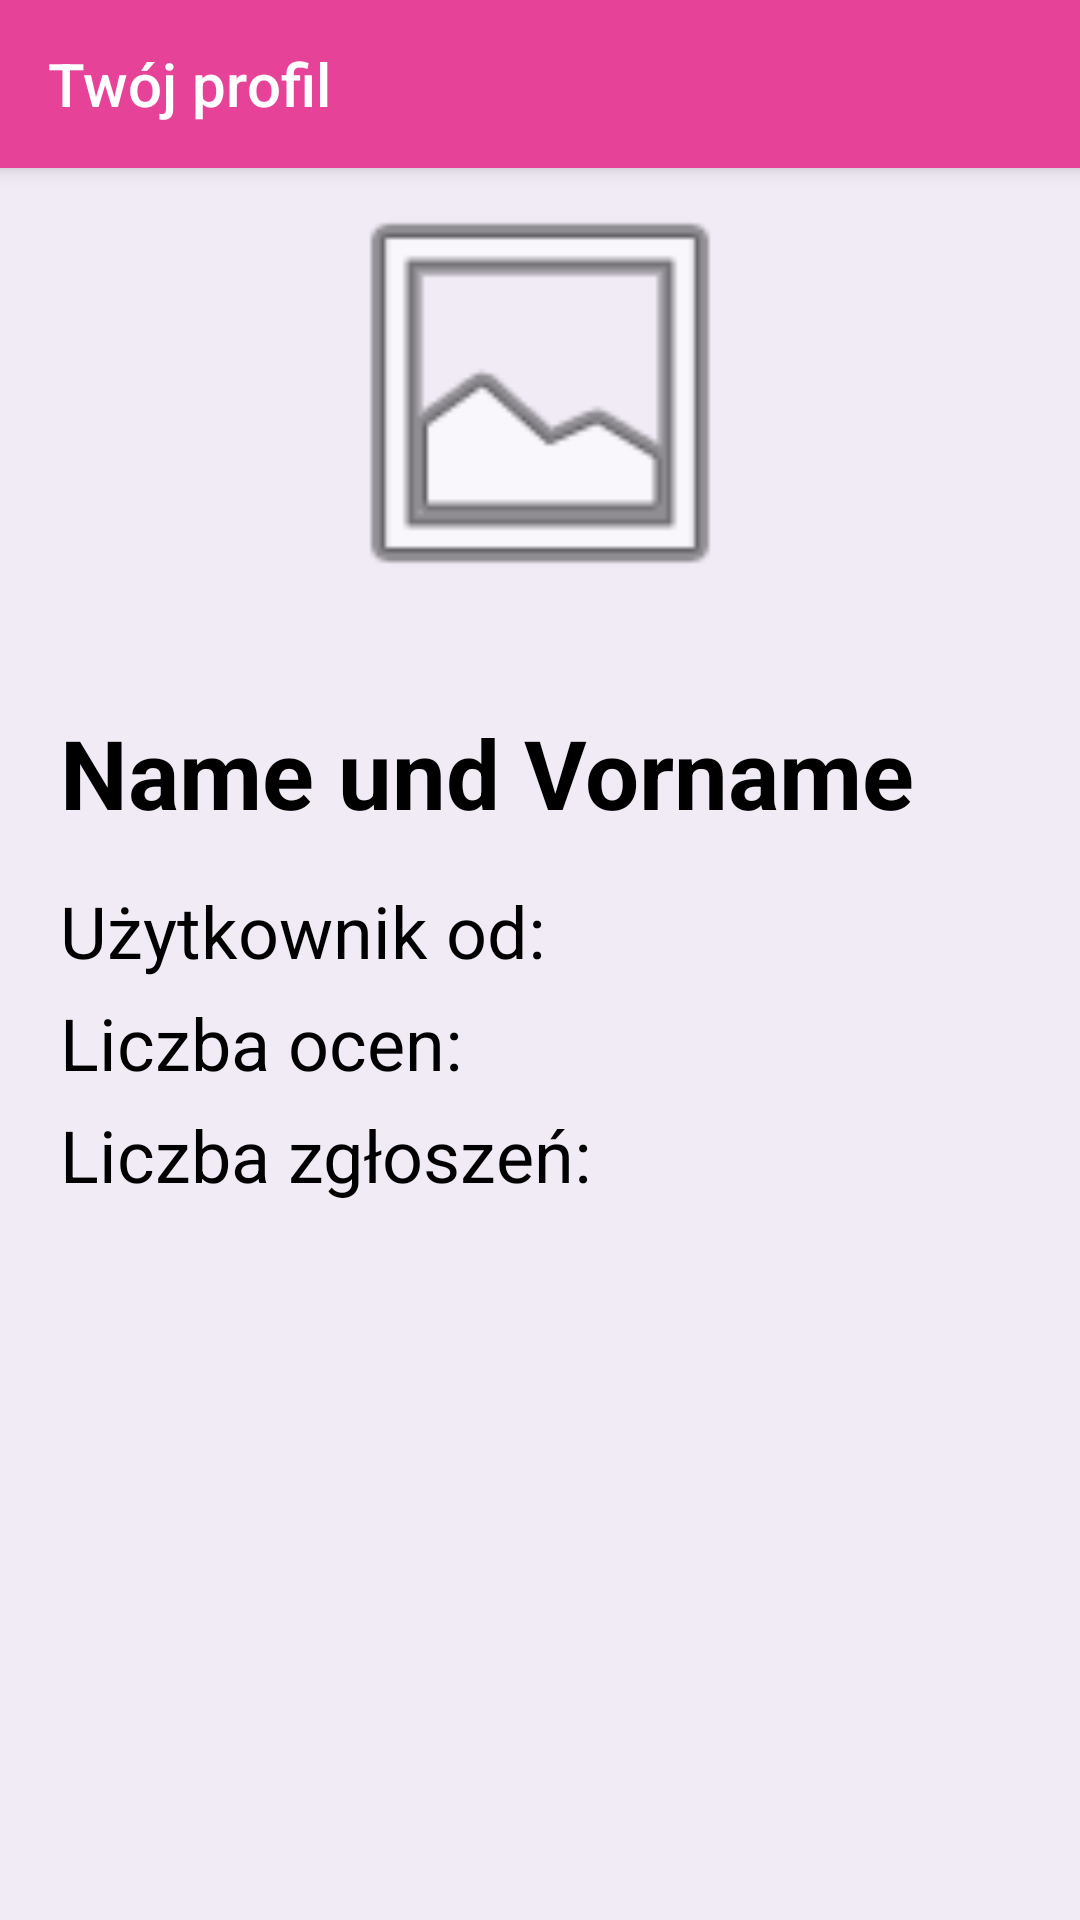

Where icons sit on this 1080x1920 app screen, as (x1, y1, x2, y2):
gallery: (370, 223, 710, 563)
